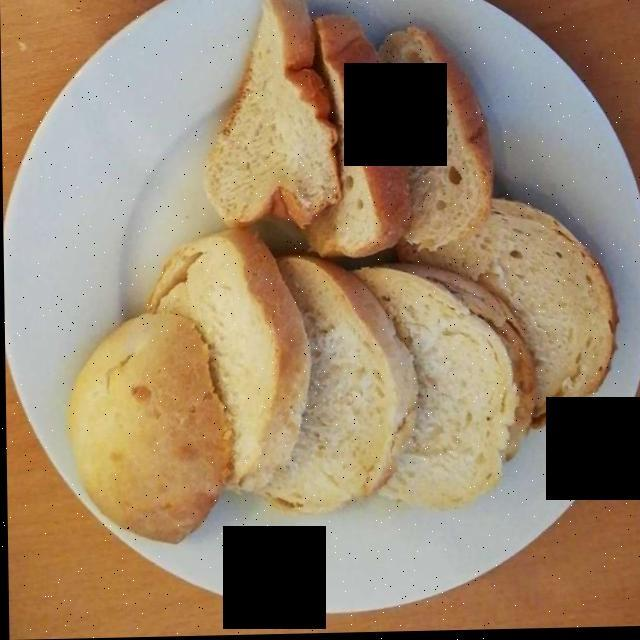bread: (91, 15, 607, 545)
